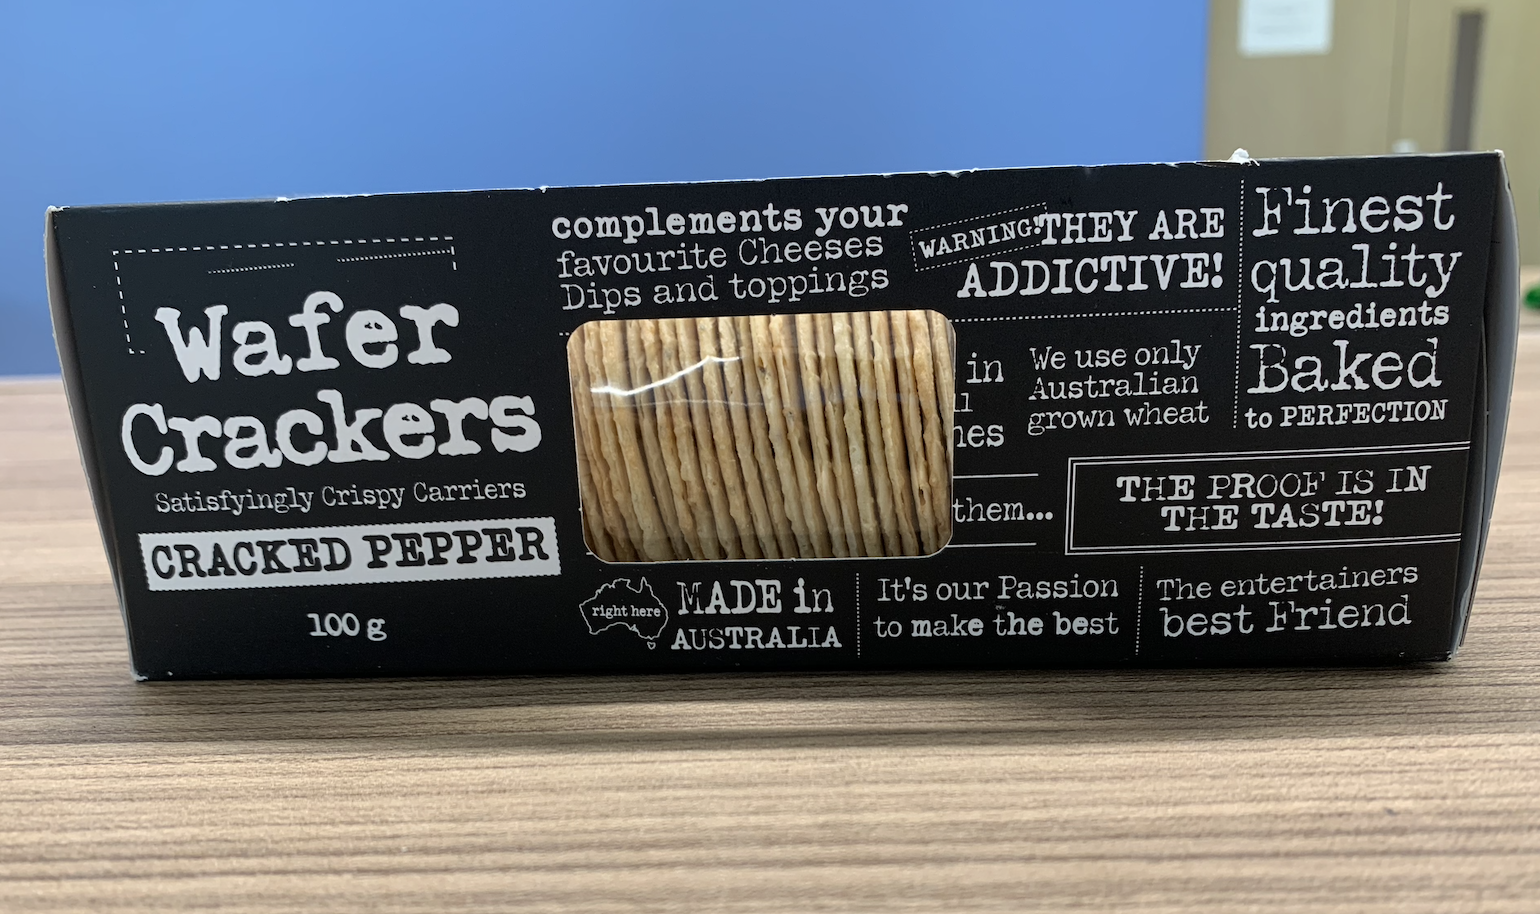crackers_150g: (117, 211, 1453, 637)
